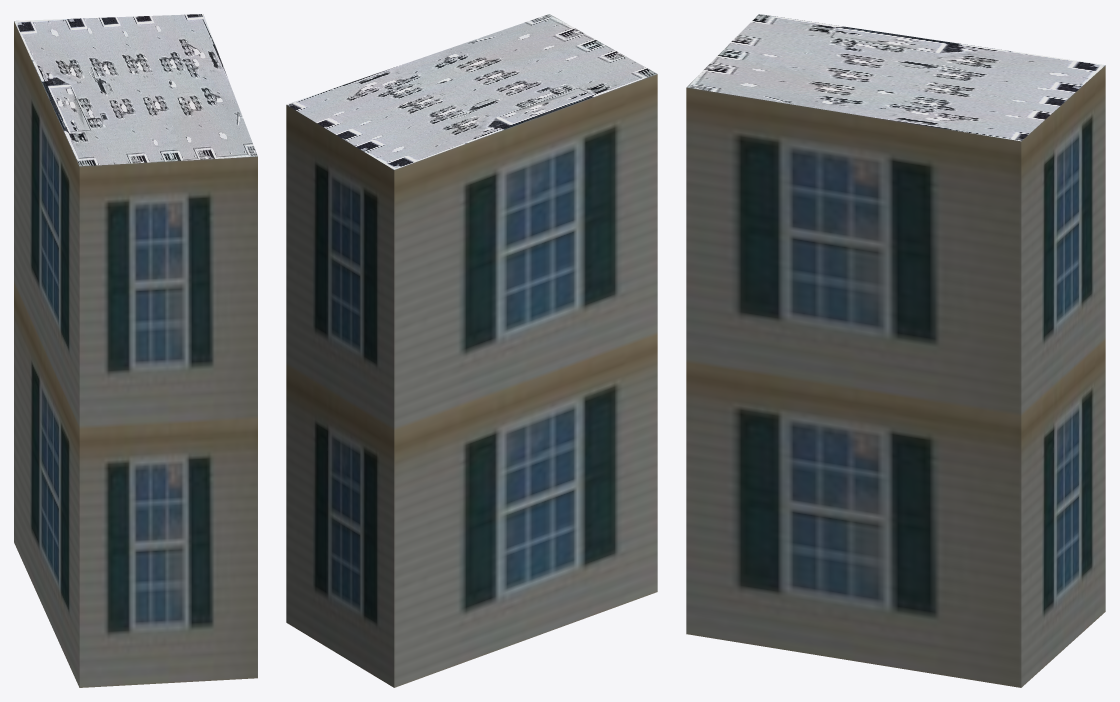
The model's file is ResTex__706.fbx.
The picture shows the model from 3 angles, left to right: view 1: azimuth 30°, elevation 25°; view 2: azimuth 150°, elevation 25°; view 3: azimuth 270°, elevation 25°; orthographic projection. The views are drawn at different scales.
Visible parts, largest first — view 1: CityEngineMaterial_7_m, CityEngineMaterial_m; view 2: CityEngineMaterial_7_m, CityEngineMaterial_m; view 3: CityEngineMaterial_7_m, CityEngineMaterial_m.
Part boxes in pixels (x1,y1,x2,y2): CityEngineMaterial_7_m: (14, 21, 257, 687); CityEngineMaterial_m: (14, 14, 257, 166); CityEngineMaterial_7_m: (286, 74, 657, 687); CityEngineMaterial_m: (286, 14, 656, 169); CityEngineMaterial_7_m: (686, 65, 1105, 687); CityEngineMaterial_m: (686, 14, 1105, 141).
Bounding box in the file's own units: 3 × 6 × 4.17.
Materials: 2 (2 with a texture image).
